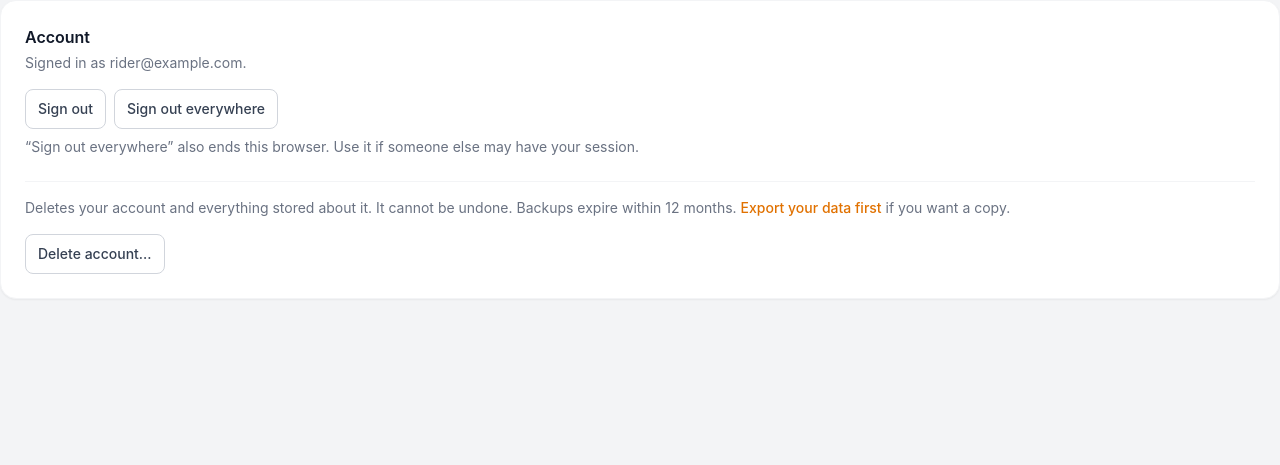
it: AccountCard while it signs out everywhere (ai-trainer-ops#104) › says it is signing out while the request runs
This screenshot has width=1280, height=465.
Click the button "Sign out everywhere".
click(196, 109)  # box [114,89,278,129]
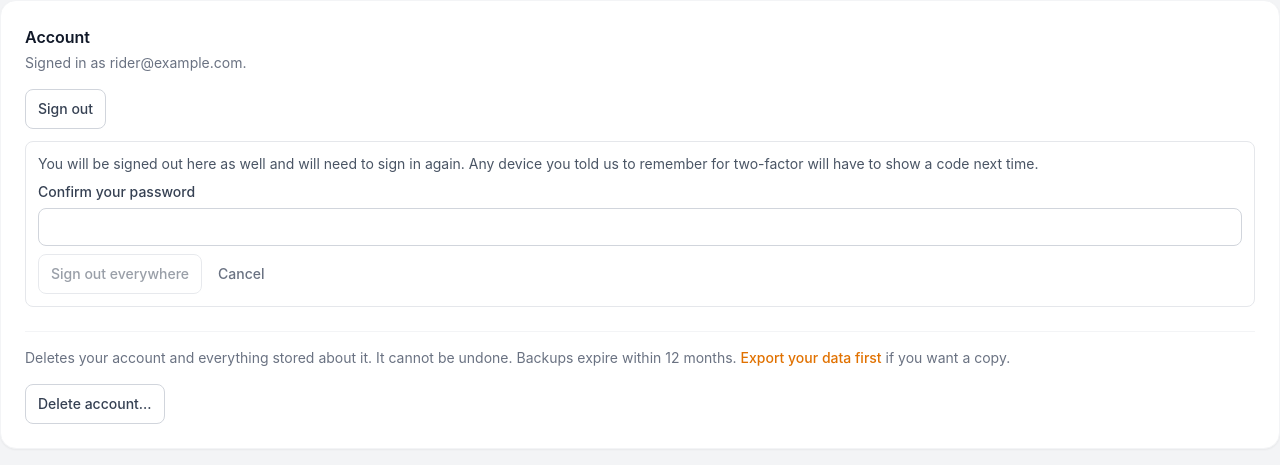
Type "Str0ng!Pass" into the password field labelled "Confirm your password".
click(640, 227); type("Str0ng!Pass")  # box [38,208,1242,246]
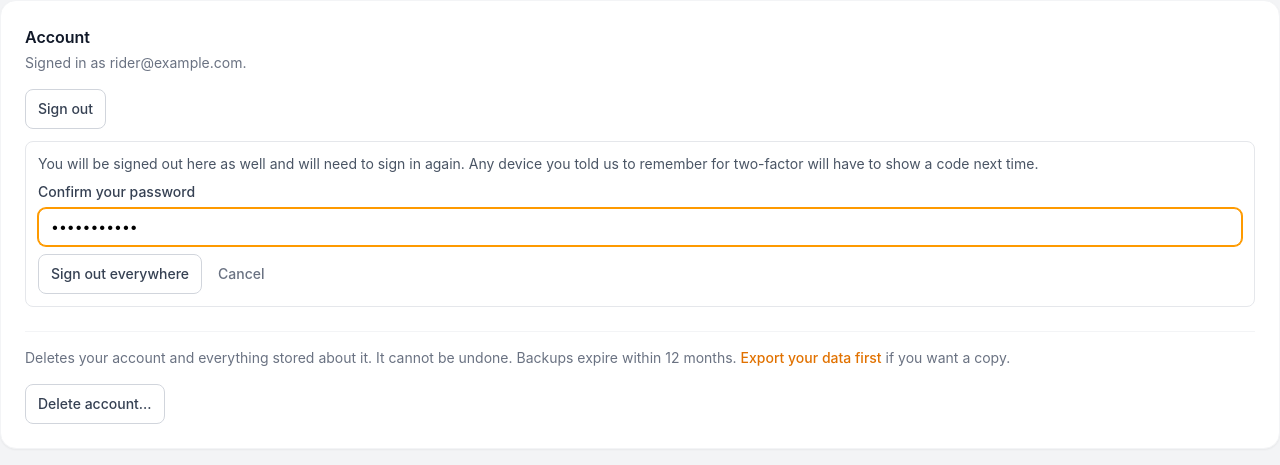
Click the button "Sign out everywhere".
click(120, 274)  # box [38,254,202,294]
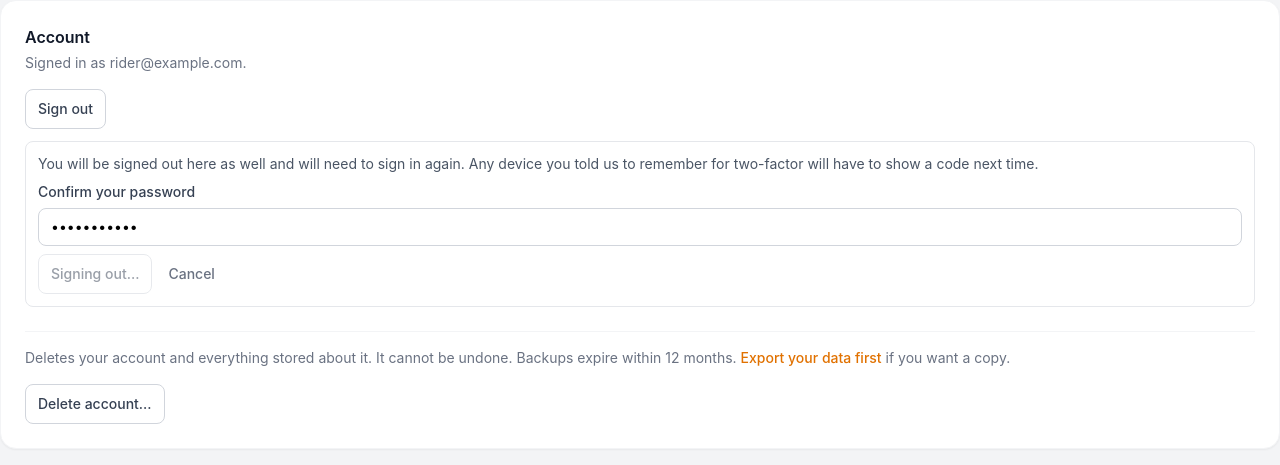
Result: the button "Signing out…" is shown at [38,254,152,294]
